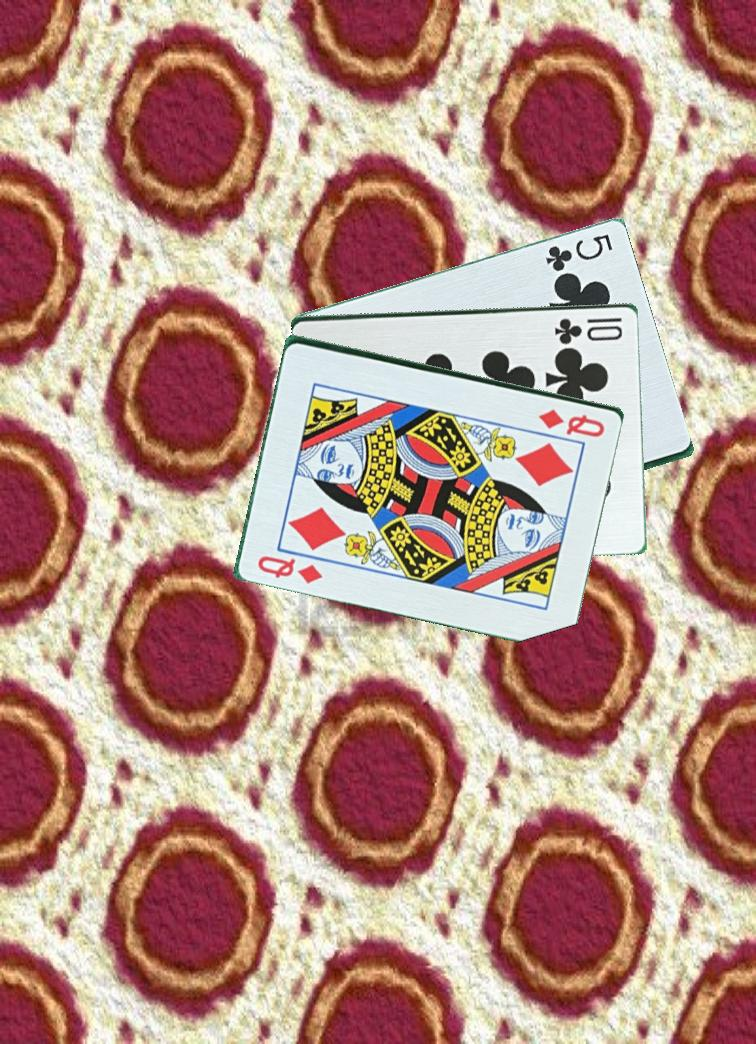5c: (541, 229, 616, 274)
qd: (535, 405, 608, 441), (254, 551, 326, 586)
tc: (545, 313, 632, 343)
